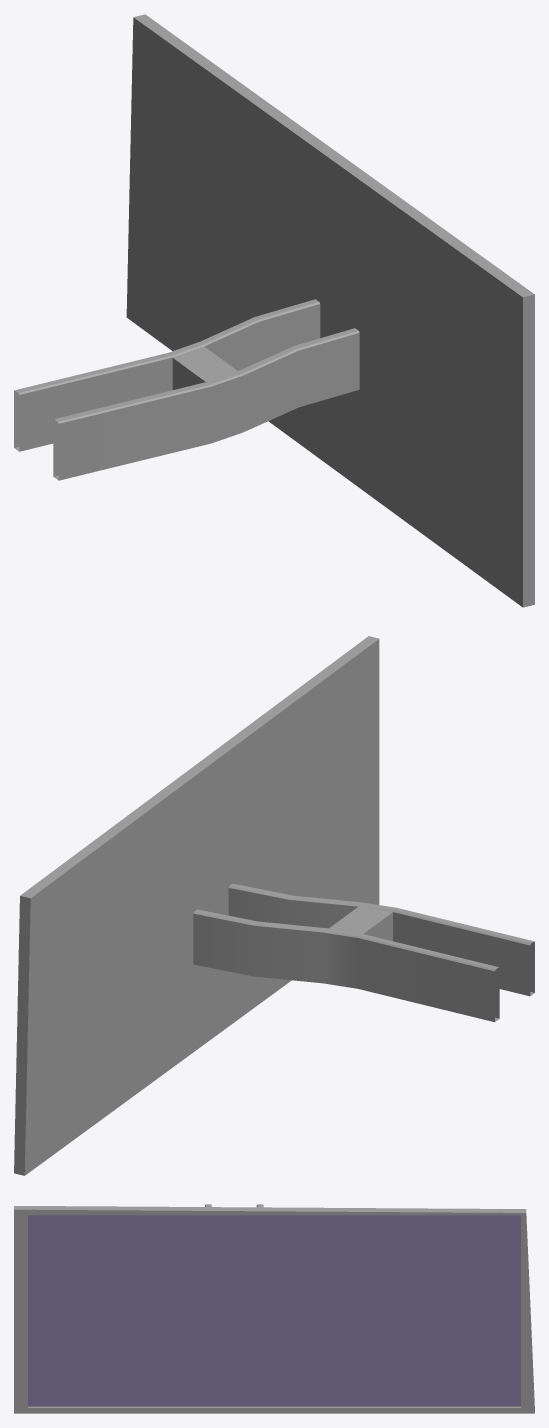
The model's file is Monitor_full_Panel.fbx.
3 renders of one model, top to bottom at view 1: azimuth 30°, elevation 25°; view 2: azimuth 150°, elevation 25°; view 3: azimuth 270°, elevation 25°, orthographic. The views are drawn at different scales.
Parts seen in each view (by area): view 1: Panel2; view 2: Panel2; view 3: Panel2.
Part boxes in pixels (x1,y1,x2,y2): Panel2: (14,14,534,607); Panel2: (14,636,534,1175); Panel2: (14,1204,534,1413).
Size of the model in its own units: 0.7903 by 0.7078 by 1.64.
